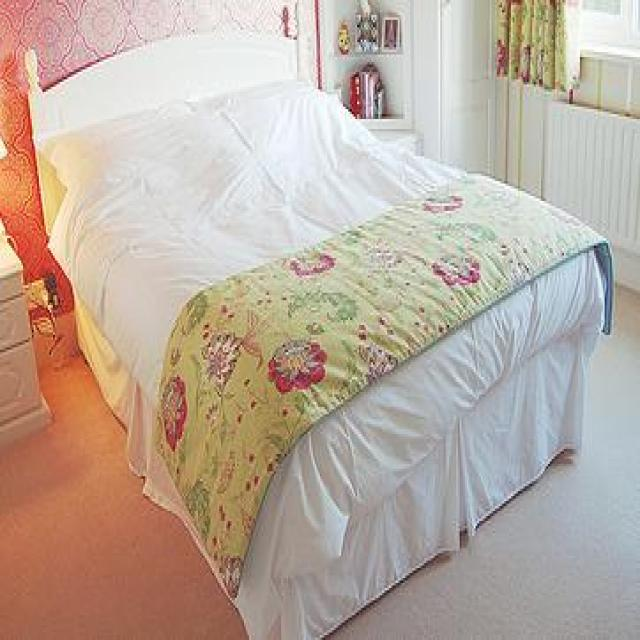bed: (23, 0, 614, 640)
